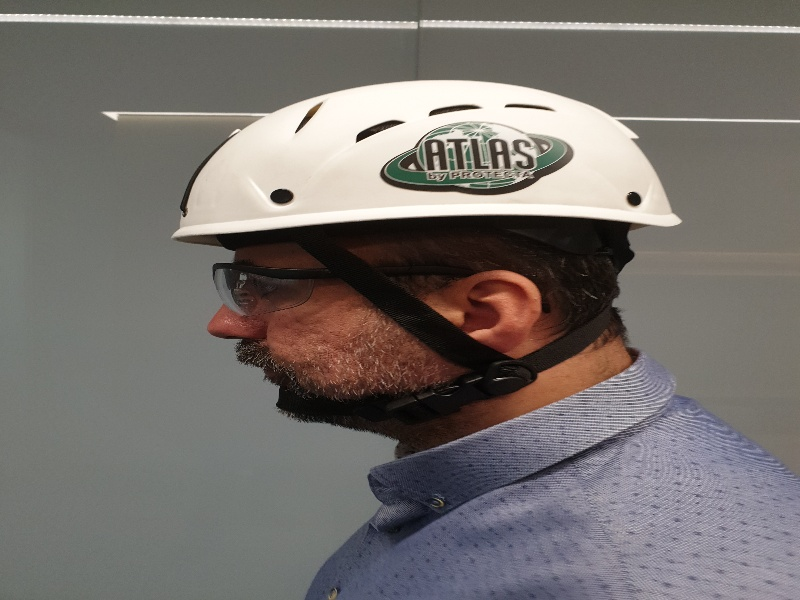Baret: (173, 80, 686, 233)
Gozluk: (210, 262, 479, 316)
